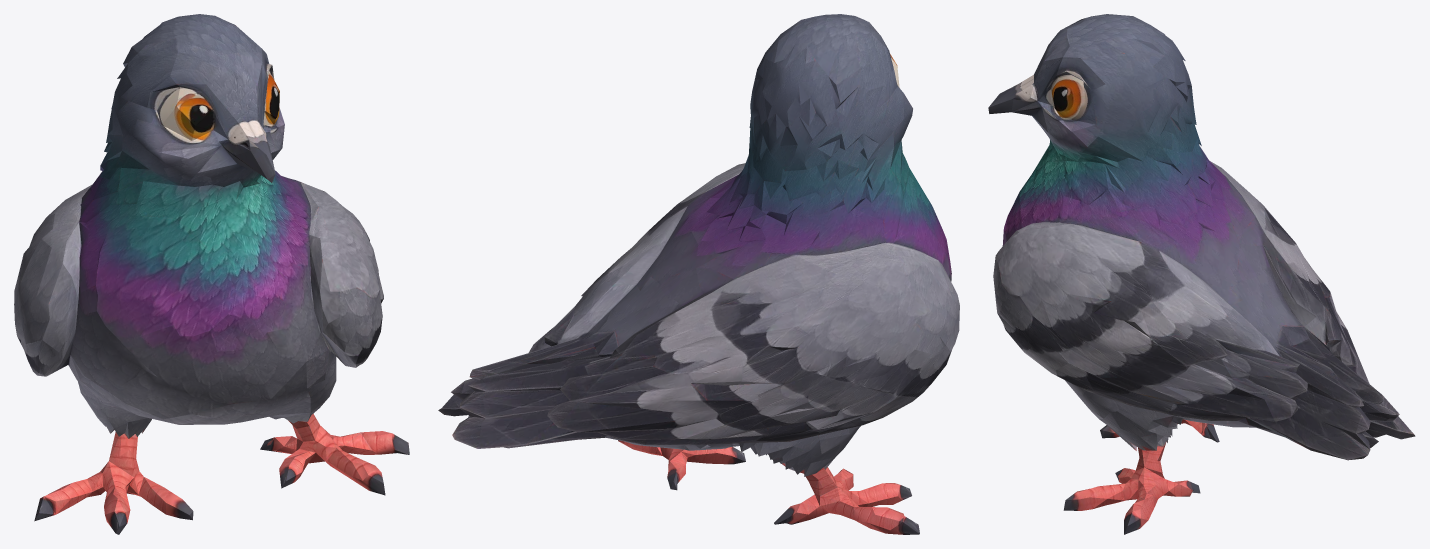
The model's file is pigeon-plain.glb.
3 renders of one model, left to right at view 1: azimuth 30°, elevation 25°; view 2: azimuth 150°, elevation 25°; view 3: azimuth 270°, elevation 25°, orthographic. The views are drawn at different scales.
Size of the model in its own units: 0.2881 by 0.32 by 0.292.
1 material, 1 textured.
